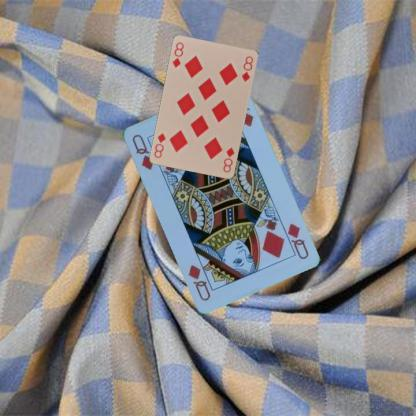8d: (220, 145, 236, 174), (170, 40, 185, 69)
Qd: (278, 219, 310, 260), (129, 131, 155, 171)
